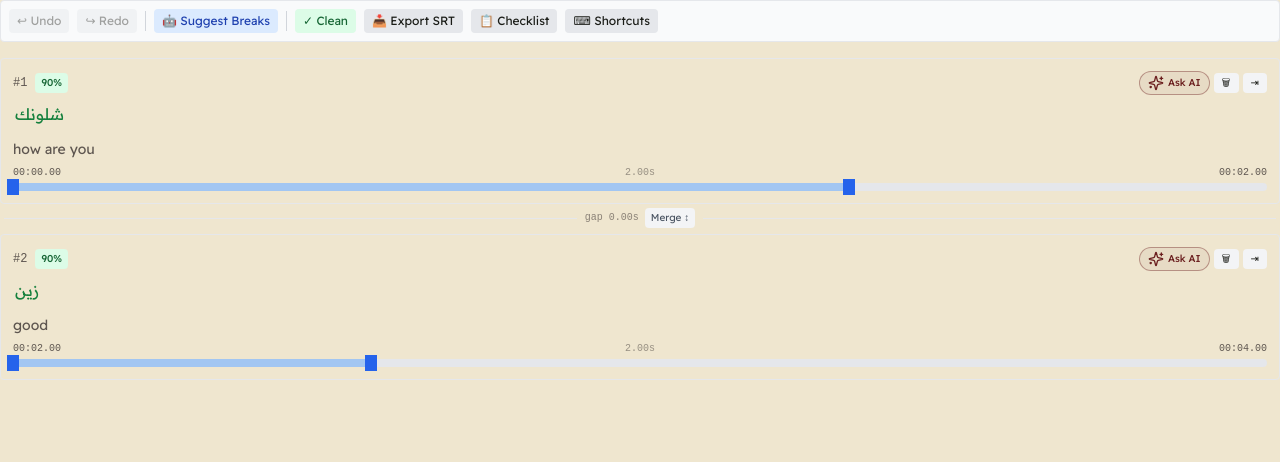
it: keyboard shortcuts › undoes with Ctrl as well as Cmd
Click the button "شلونك" at (40, 114), box [13, 104, 66, 124]
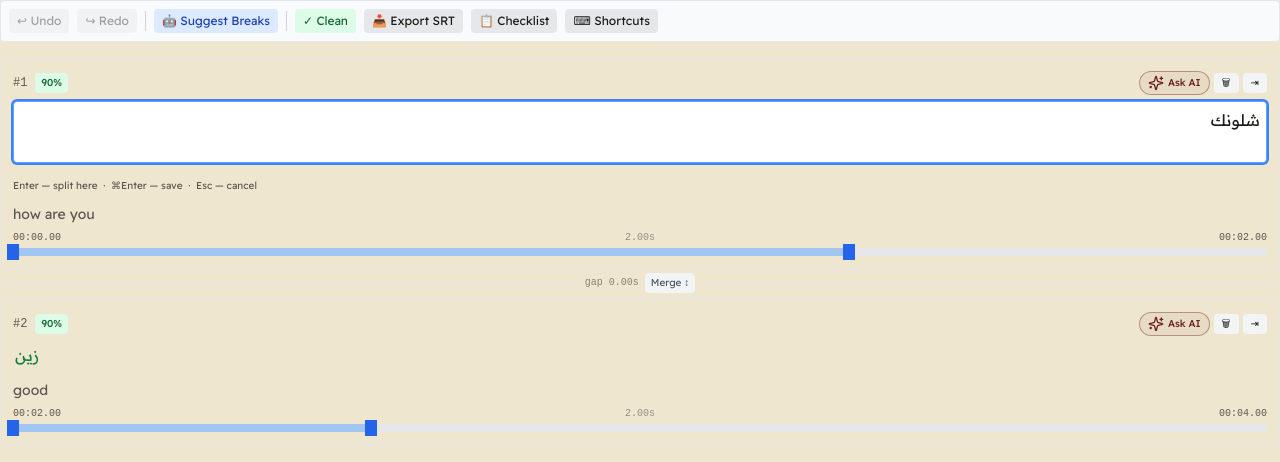
Replace the text in the text box with "شلونكم" at (640, 132), box [13, 101, 1267, 163]
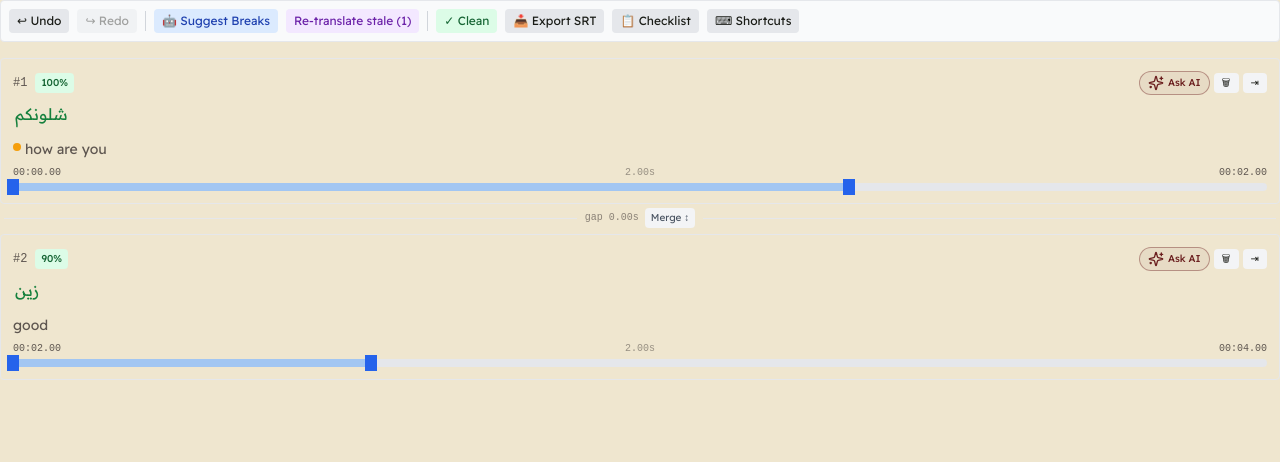
Press z
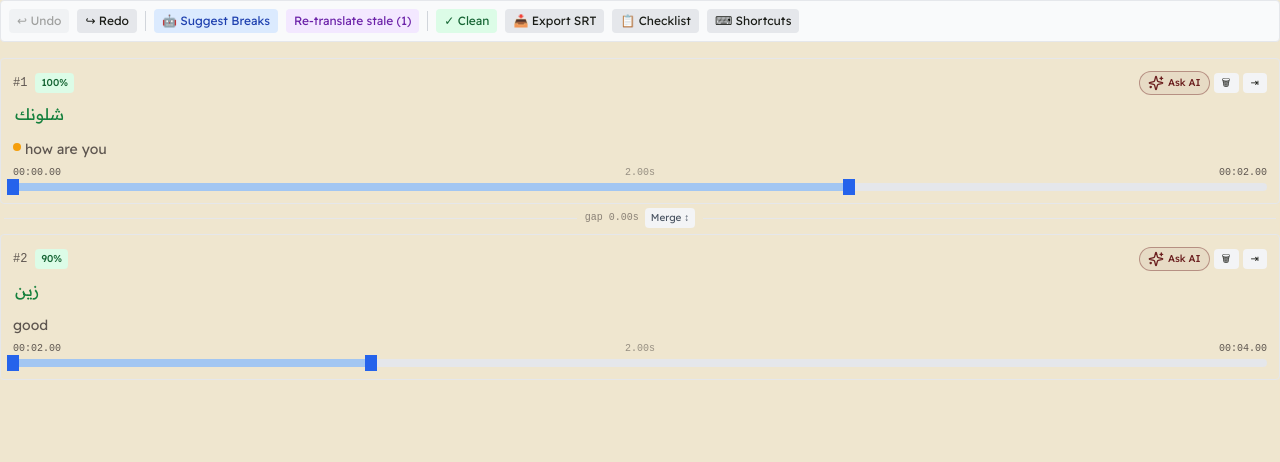
Click the button "شلونك" at (40, 114), box [13, 104, 66, 124]
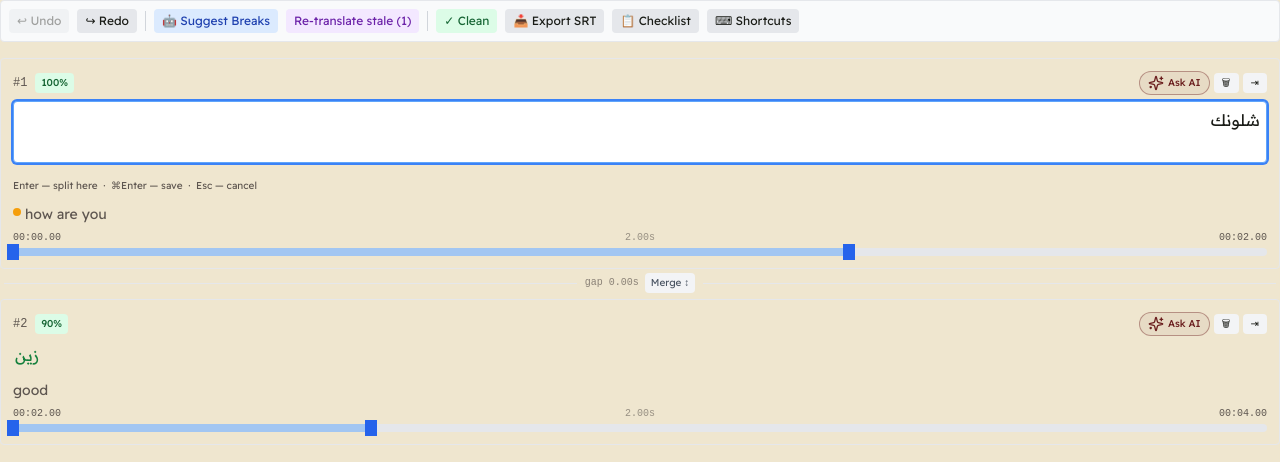
Press Escape in the text box, box [13, 101, 1267, 163]
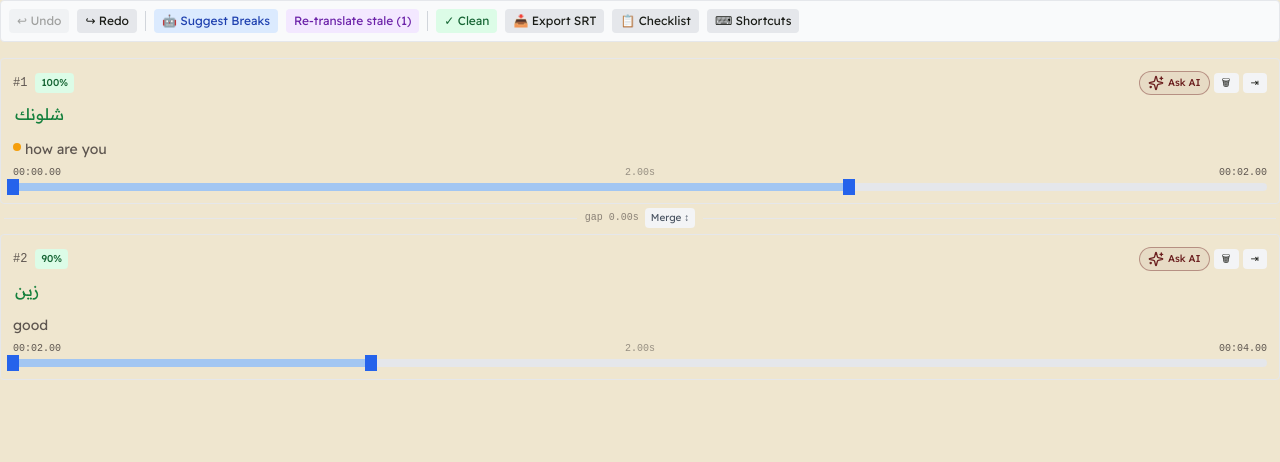
Now the button "شلونك" is shown, box [13, 104, 66, 124]
